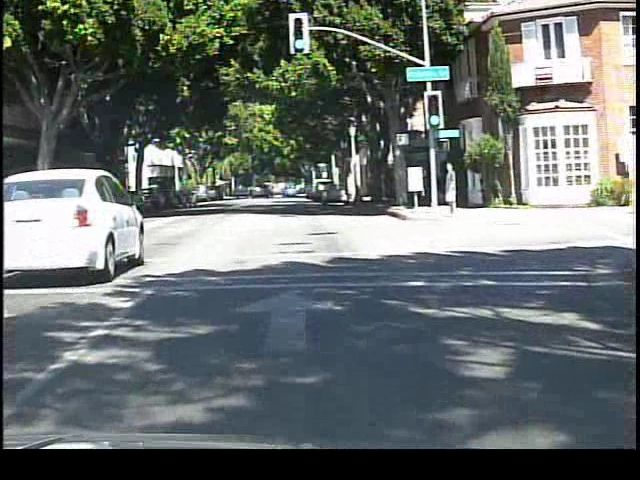person: (440, 158, 462, 219)
